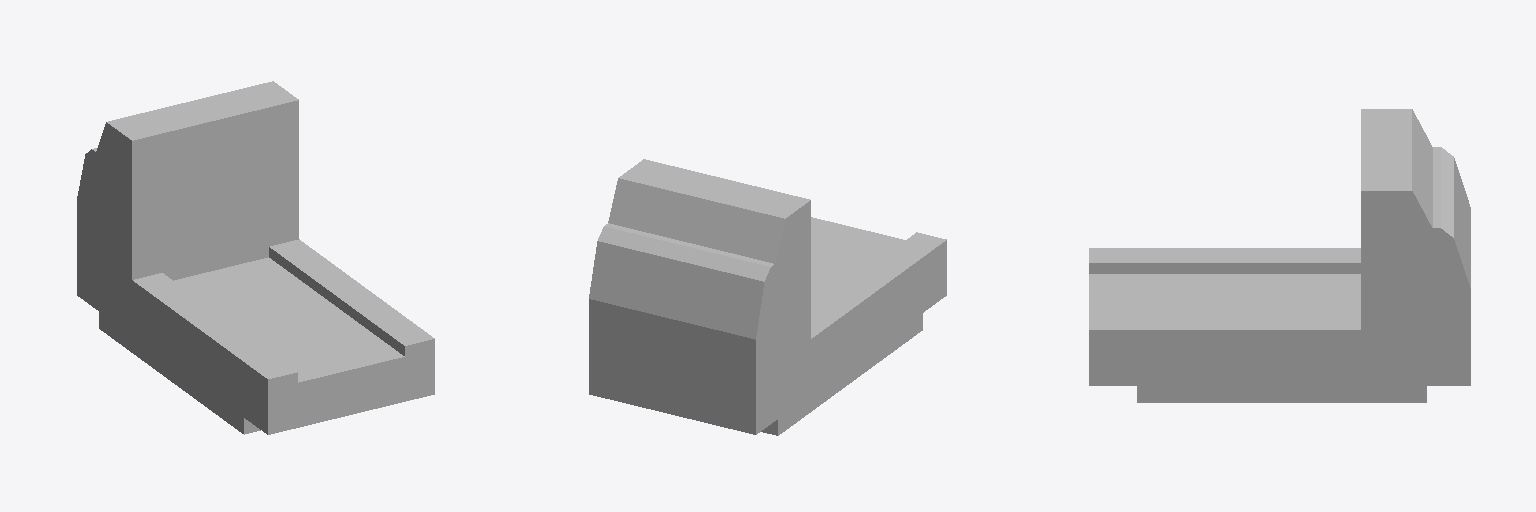
The model's file is truck-flat.obj.
3 renders of one model, left to right at view 1: azimuth 30°, elevation 25°; view 2: azimuth 150°, elevation 25°; view 3: azimuth 270°, elevation 25°, orthographic.
Parts seen in each view (by area): view 1: truck-flat; view 2: truck-flat; view 3: truck-flat.
Boxes of the visible parts, x1=… form: truck-flat: x1=77, y1=81, x2=434, y2=434; truck-flat: x1=589, y1=159, x2=946, y2=435; truck-flat: x1=1089, y1=109, x2=1470, y2=402.
Size of the model in its own units: 0.83 by 1.01 by 1.64.